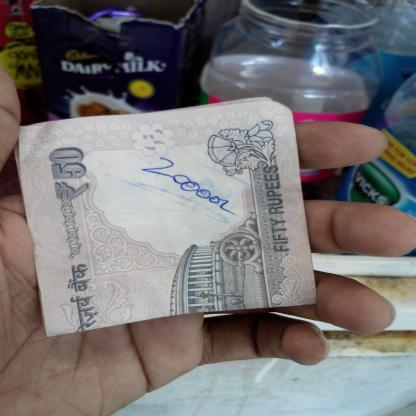Old50Back: (16, 96, 320, 338)
